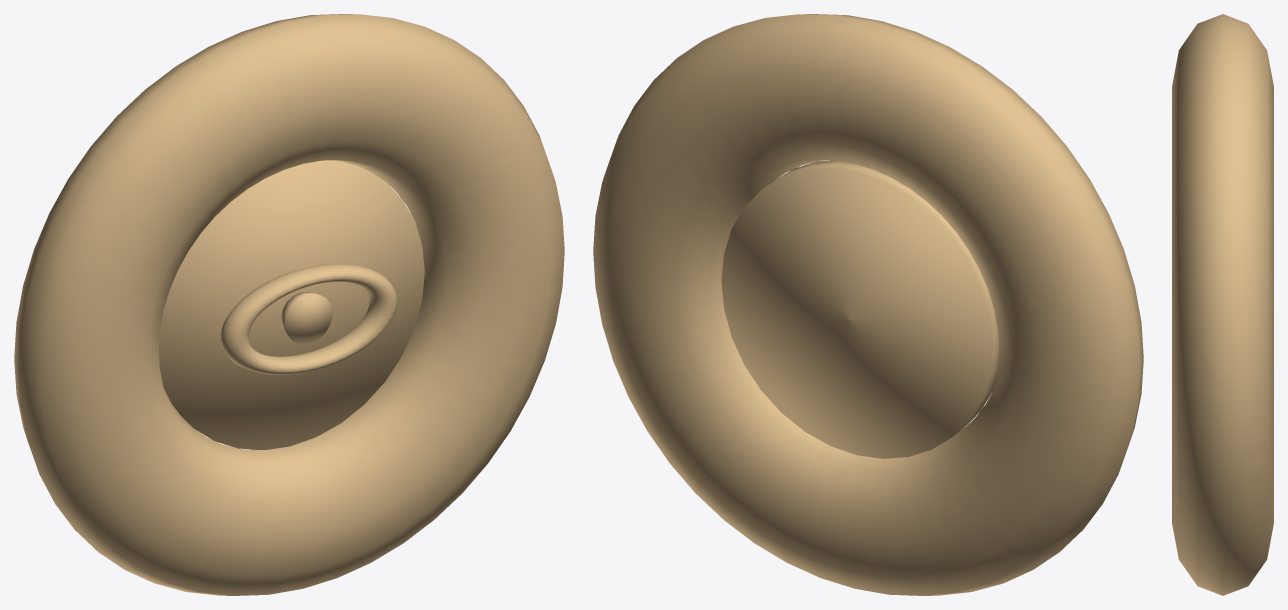
File: wall_medallion.glb
The picture shows the model from 3 angles, left to right: view 1: azimuth 30°, elevation 25°; view 2: azimuth 150°, elevation 25°; view 3: azimuth 270°, elevation 25°; orthographic projection. The views are drawn at different scales.
Visible parts, largest first — view 1: wall_medallion; view 2: wall_medallion; view 3: wall_medallion.
Boxes of the visible parts, x1=… form: wall_medallion: x1=14, y1=14, x2=564, y2=595; wall_medallion: x1=593, y1=14, x2=1143, y2=595; wall_medallion: x1=1172, y1=14, x2=1273, y2=595.
Size of the model in its own units: 0.8 by 0.8 by 0.14.
